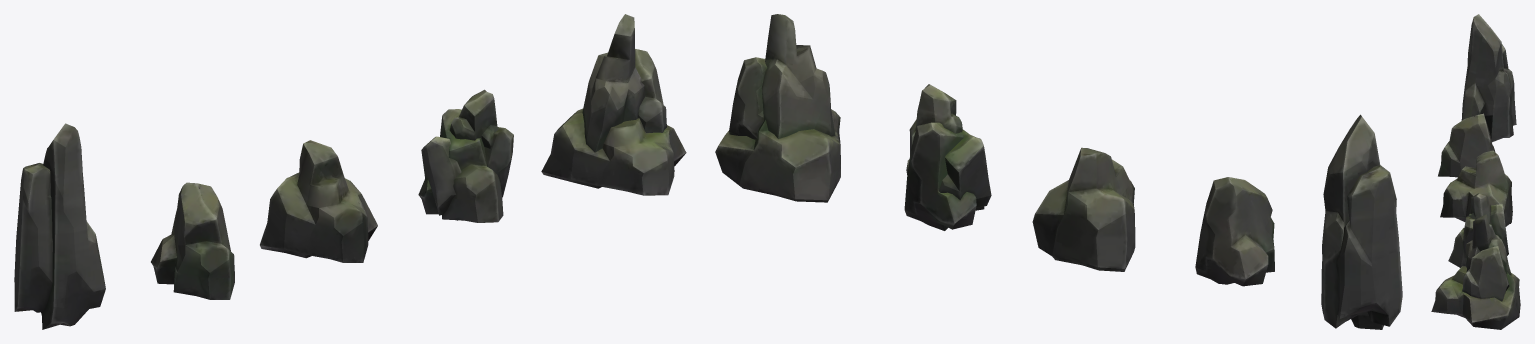
Rendered from Rocks.glb.
3 views of the same model, side by side, from view 1: azimuth 30°, elevation 25°; view 2: azimuth 150°, elevation 25°; view 3: azimuth 270°, elevation 25° (orthographic). The views are drawn at different scales.
Parts seen in each view (by area): view 1: Rock_5, Rock_4, Rock_2, Rock_3, Rock_1; view 2: Rock_5, Rock_4, Rock_2, Rock_3, Rock_1; view 3: Rock_5, Rock_4, Rock_2, Rock_1, Rock_3.
Part boxes in pixels (box(x1,y1,x2,y2)): Rock_5: box(541, 14, 686, 195); Rock_4: box(14, 123, 105, 329); Rock_2: box(260, 140, 377, 262); Rock_3: box(418, 89, 513, 222); Rock_1: box(151, 182, 234, 299); Rock_5: box(715, 14, 840, 202); Rock_4: box(1321, 114, 1402, 329); Rock_2: box(1032, 147, 1135, 271); Rock_3: box(904, 84, 991, 230); Rock_1: box(1195, 177, 1274, 286); Rock_5: box(1431, 214, 1520, 329); Rock_4: box(1461, 14, 1516, 142); Rock_2: box(1440, 150, 1512, 226); Rock_1: box(1438, 113, 1495, 177); Rock_3: box(1448, 193, 1508, 267).
Bounding box in the file's own units: 7.28 × 2.15 × 1.32.
Materials: 1 (1 with a texture image).
